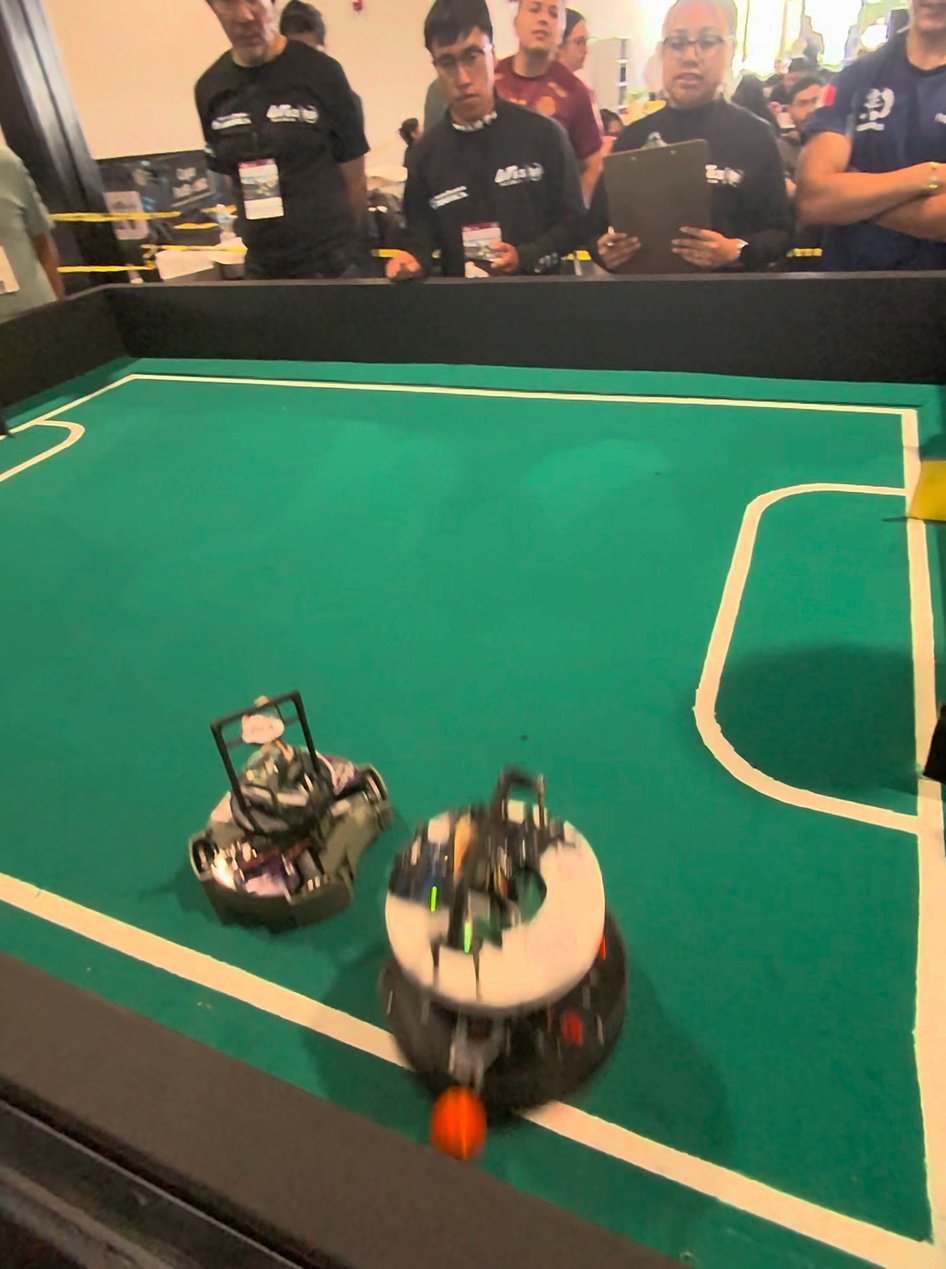Robot: (392, 750, 644, 1106), (185, 671, 411, 951)
pelota: (423, 1079, 514, 1183)
